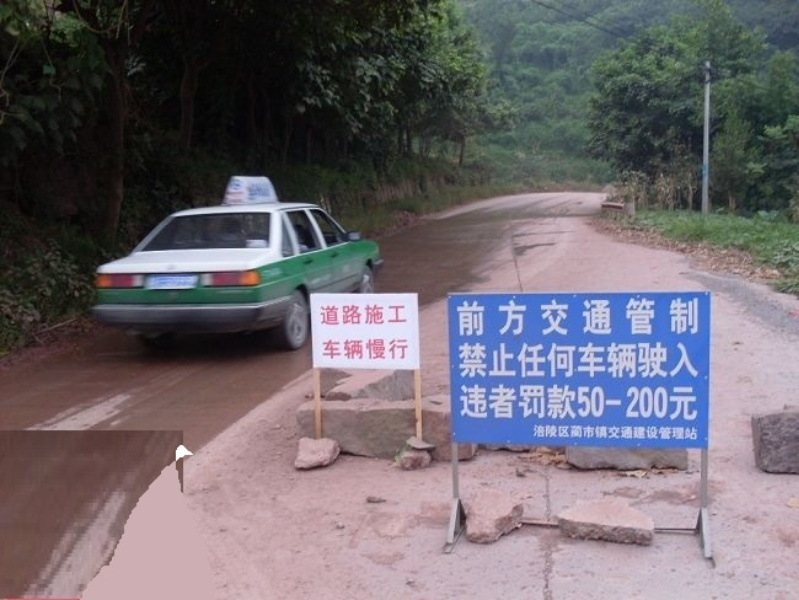text: (465, 339, 480, 382), (481, 339, 496, 382), (497, 339, 512, 382), (513, 339, 528, 382), (529, 339, 544, 382), (545, 339, 560, 382), (561, 339, 576, 382), (577, 339, 592, 382), (593, 339, 608, 382), (609, 339, 624, 382), (625, 339, 640, 382), (641, 339, 656, 382), (657, 339, 672, 382), (673, 339, 688, 382), (465, 296, 480, 337), (481, 296, 496, 337), (497, 296, 512, 337), (513, 296, 528, 337), (529, 296, 544, 337), (545, 296, 560, 337), (561, 296, 576, 337), (577, 296, 592, 337), (593, 296, 608, 337), (609, 296, 624, 337), (625, 296, 640, 337), (641, 296, 656, 337), (657, 296, 672, 337), (673, 296, 688, 337), (465, 383, 480, 421), (481, 383, 496, 421), (497, 383, 512, 421), (513, 383, 528, 421), (529, 383, 544, 421), (545, 383, 560, 421), (561, 383, 576, 421), (577, 383, 592, 421), (593, 383, 608, 421), (609, 383, 624, 421), (625, 383, 640, 421), (641, 383, 656, 421), (657, 383, 672, 421), (673, 383, 688, 421), (689, 296, 701, 337), (453, 296, 464, 337), (454, 339, 464, 382), (689, 383, 699, 421), (321, 337, 336, 361), (337, 337, 352, 361), (353, 337, 368, 361), (369, 337, 384, 361), (385, 337, 400, 361), (321, 303, 336, 326), (337, 303, 352, 326), (353, 303, 368, 326), (369, 303, 384, 326), (385, 303, 400, 326), (689, 339, 697, 382), (455, 383, 464, 421), (545, 423, 560, 444), (561, 423, 576, 444), (577, 423, 592, 444), (593, 423, 608, 444), (609, 423, 624, 444), (625, 423, 640, 444), (641, 423, 656, 444), (657, 423, 672, 444), (673, 423, 688, 444), (689, 423, 702, 444), (532, 423, 544, 444), (401, 337, 411, 361), (401, 303, 411, 326), (318, 303, 320, 326)
